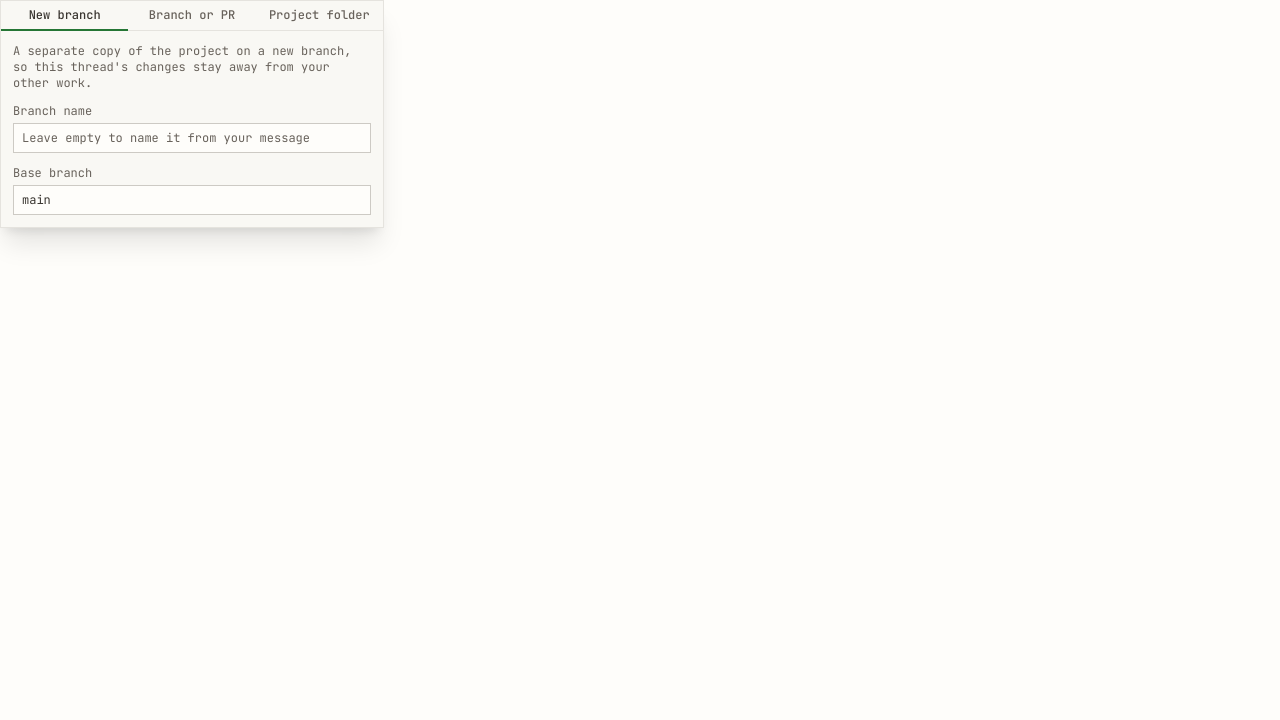
it: DraftStartPicker › lists open PRs and the branches not already covered or in use
Click the button "Branch or PR": [192, 16] box 128,1 -> 256,31
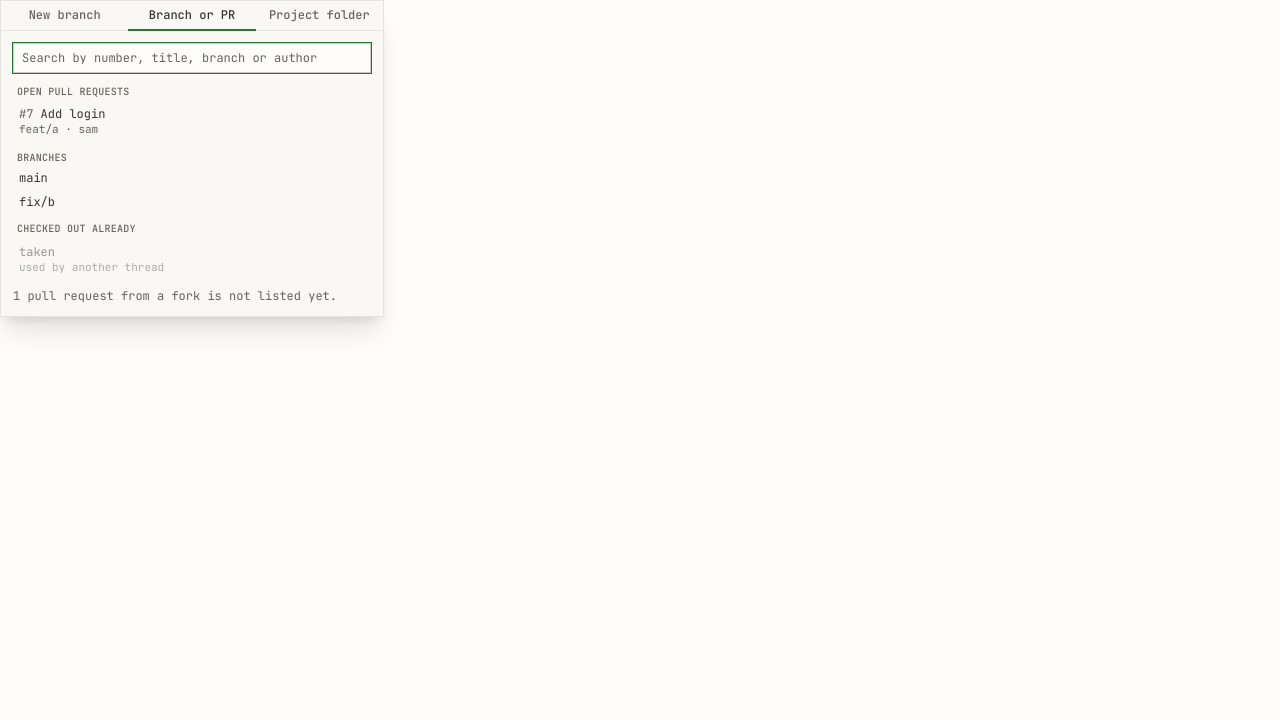
Expected: the button "#7 Add login feat/a · sam" is shown, 9,100 -> 375,143
Expected: the text "1 pull request from a fork is not listed yet." is shown, 13,288 -> 371,304
Expected: the button "fix/b" is shown, 9,190 -> 375,214
